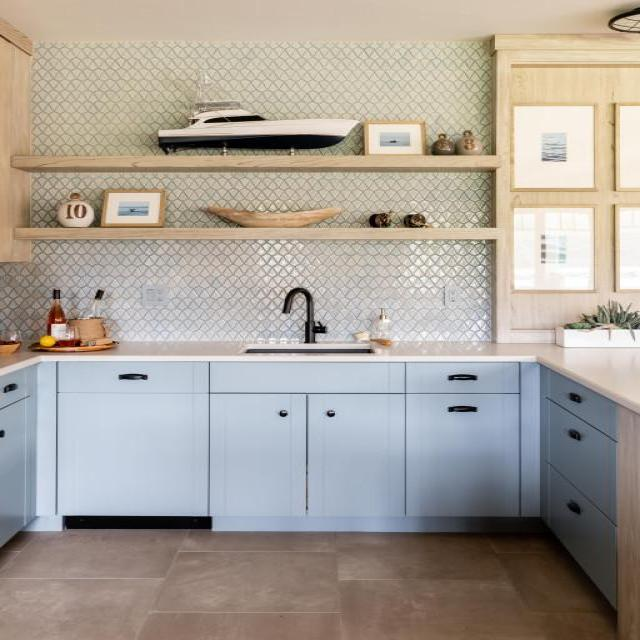dishwasher: (36, 334, 236, 560)
